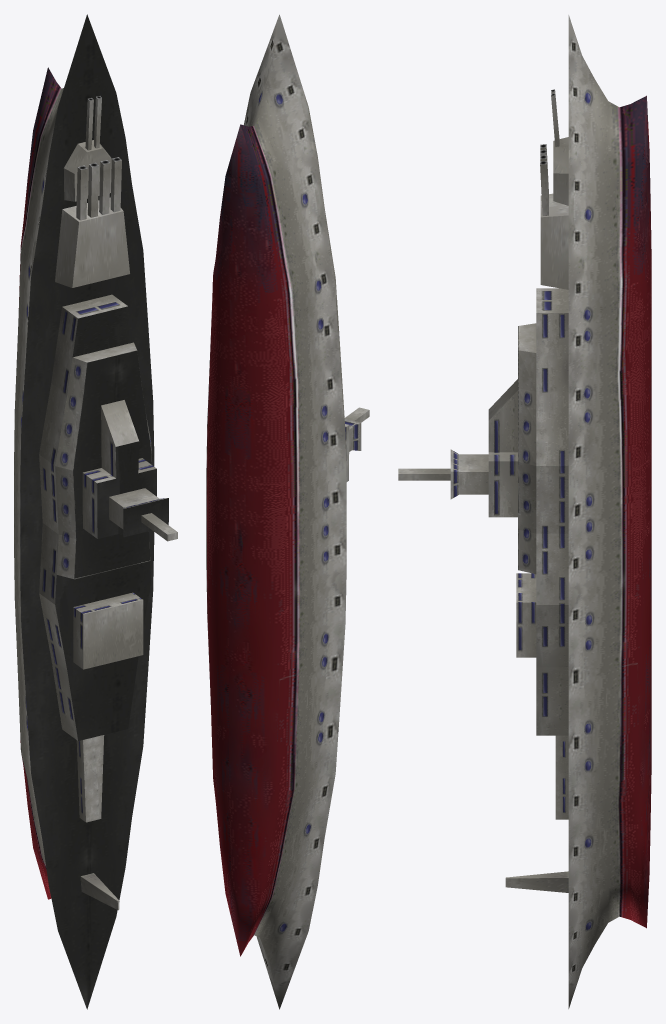
File: battleship z front y up.FBX
3 views of the same model, side by side, from view 1: azimuth 30°, elevation 25°; view 2: azimuth 150°, elevation 25°; view 3: azimuth 270°, elevation 25° (orthographic).
Visible parts, largest first — view 1: Box002; view 2: Box002; view 3: Box002.
Boxes of the visible parts, x1=… form: Box002: x1=14, y1=14, x2=177, y2=1009; Box002: x1=206, y1=14, x2=369, y2=1009; Box002: x1=398, y1=15, x2=651, y2=1008.
Bounding box in the file's own units: 132 × 938 × 216.
1 material, 1 textured.
